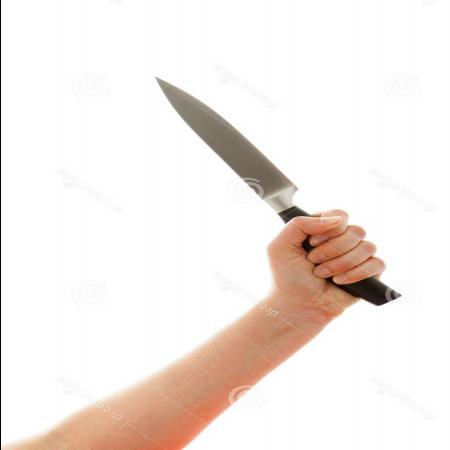long weapon: (148, 70, 364, 273)
